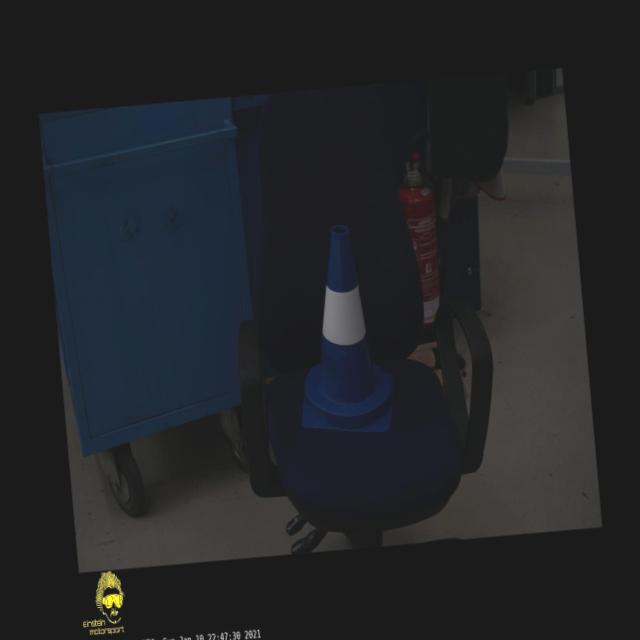blue_cone: (285, 222, 395, 438)
